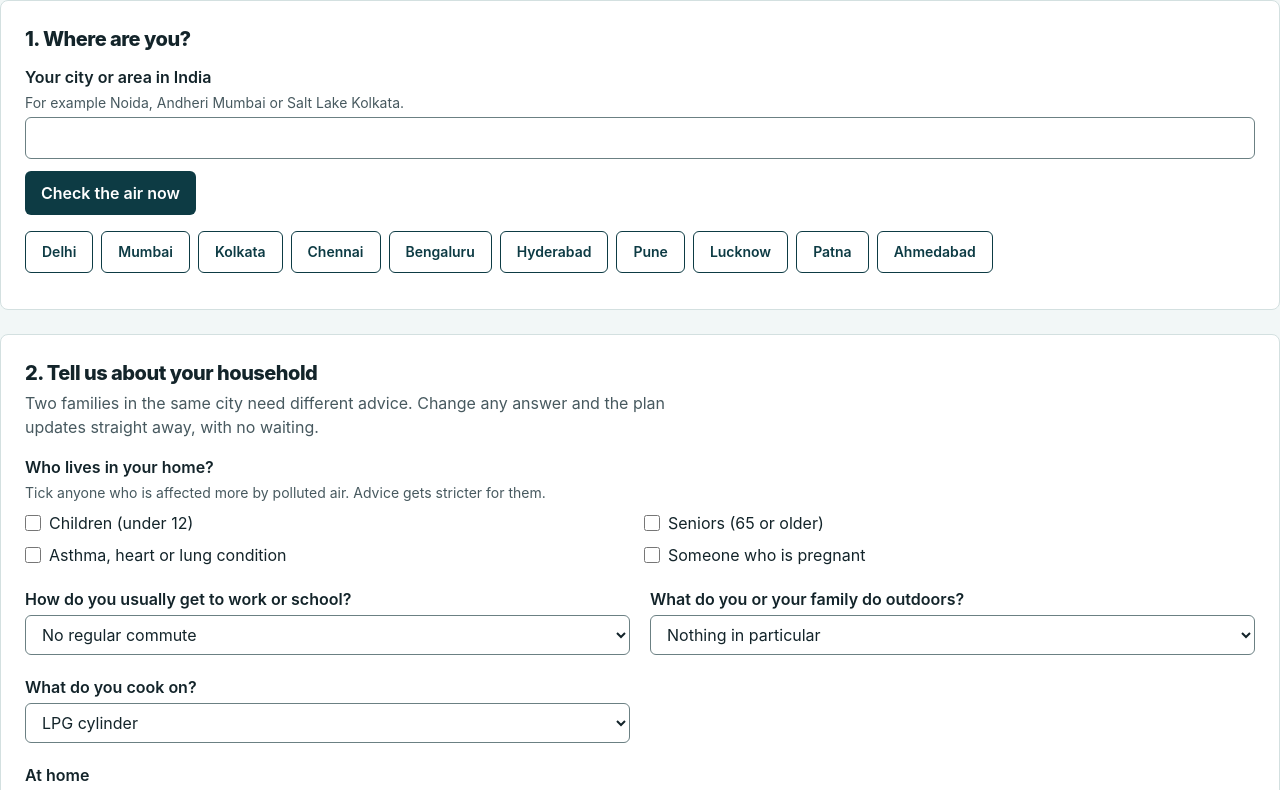
Test: checking the air › explains a network failure in plain words
The width and height of the screenshot is (1280, 790).
Click the button "Mumbai" at (146, 252), box [101,231,190,273]
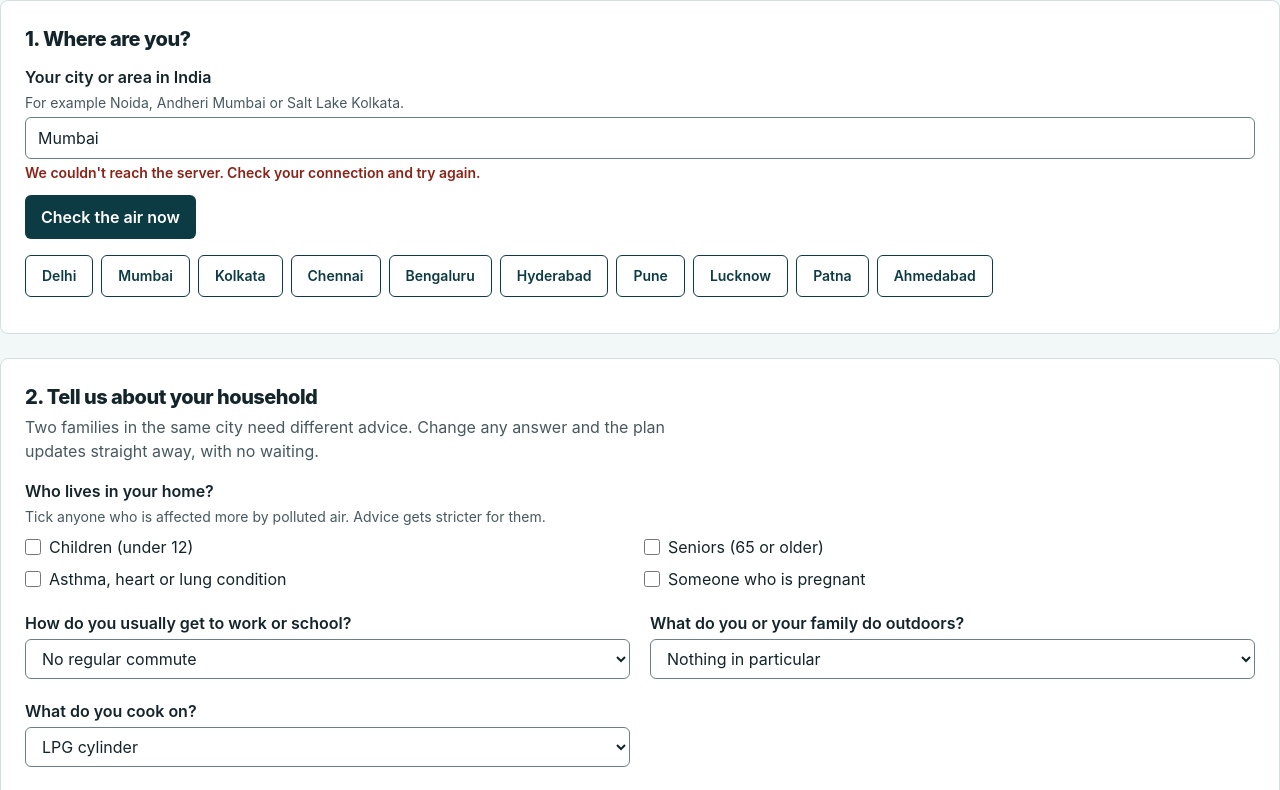
Now the text "couldn't reach the server" is shown, box [25,164,480,181]
